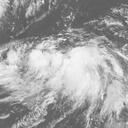cyclone: (28, 39, 109, 106)
